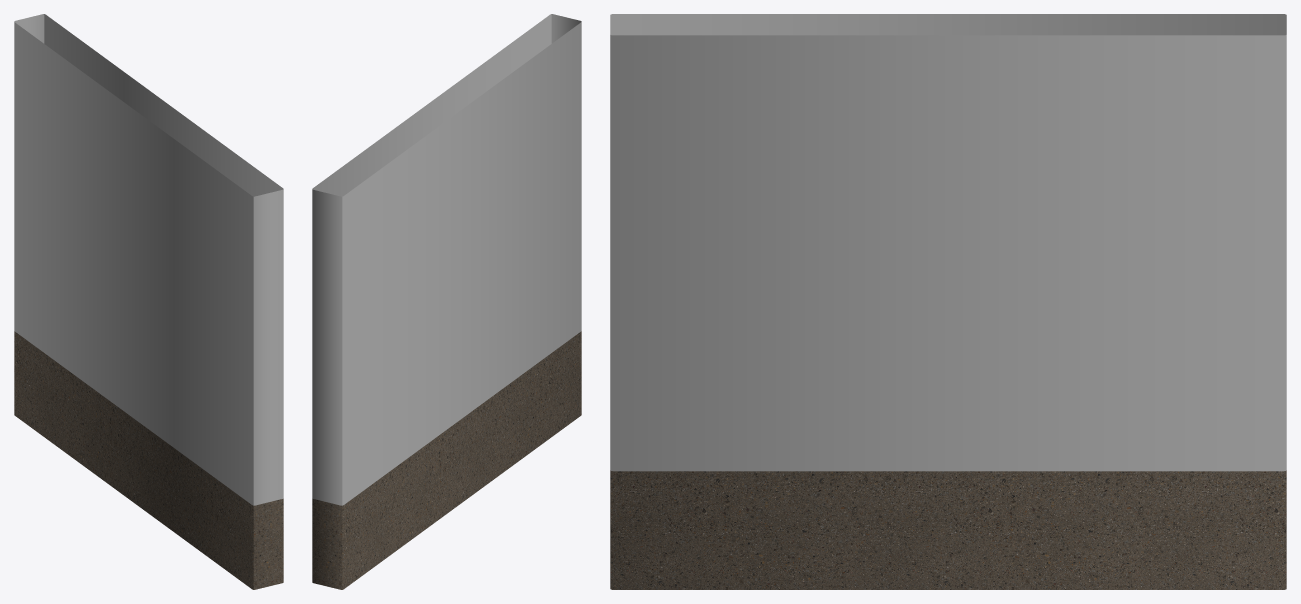
Rendered from Wall_04.fbx.
3 renders of one model, left to right at view 1: azimuth 30°, elevation 25°; view 2: azimuth 150°, elevation 25°; view 3: azimuth 270°, elevation 25°, orthographic. The views are drawn at different scales.
Visible parts, largest first — view 1: Wall_04; view 2: Wall_04; view 3: Wall_04.
Boxes of the visible parts, box(x1,y1,x2,y2) form: Wall_04: box(14, 14, 283, 589); Wall_04: box(312, 14, 581, 589); Wall_04: box(610, 14, 1286, 589).
Bounding box in the file's own units: 0.3 × 3.62 × 4.
